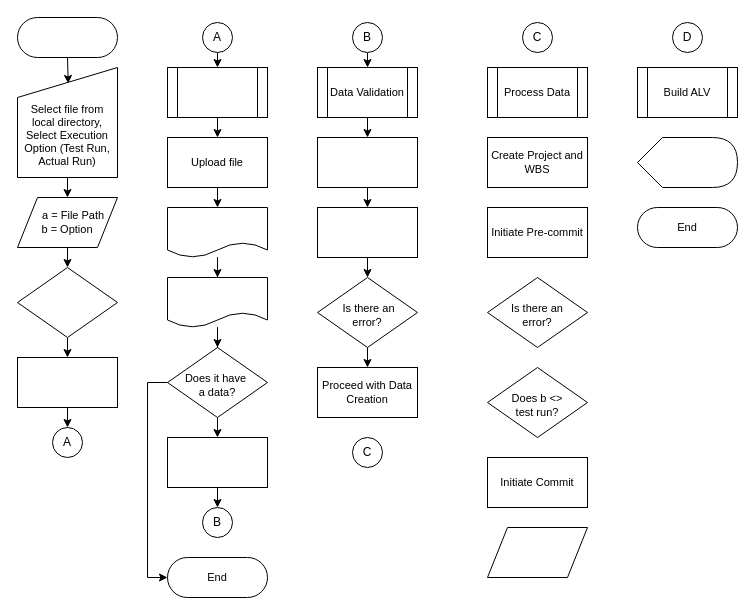
Some shapes in this 755 by 615 pixel diagram are drawn without their labels. The centre of each missing label's shape, as x and y in pixels:
a <> space?: (x=67, y=302)
Data Selection: (x=217, y=92)
Display Output: (x=687, y=162)
Proceed with Data Selection: (x=67, y=382)
Proceed with Data Validation: (x=217, y=462)
Project Details Sheet: (x=217, y=232)
Return Successful: (x=537, y=552)
Start: (x=67, y=37)
Validate Project Details: (x=367, y=162)
Validate WBS Details: (x=367, y=232)
WBS Details Sheet: (x=217, y=302)
